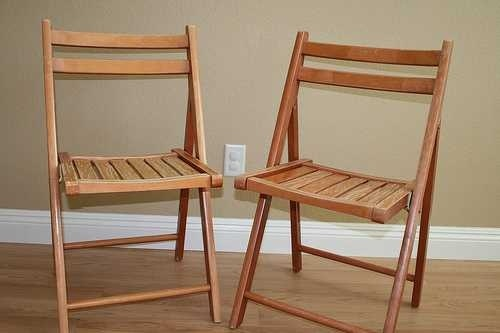obstacle: (229, 32, 452, 331), (42, 19, 221, 331)
